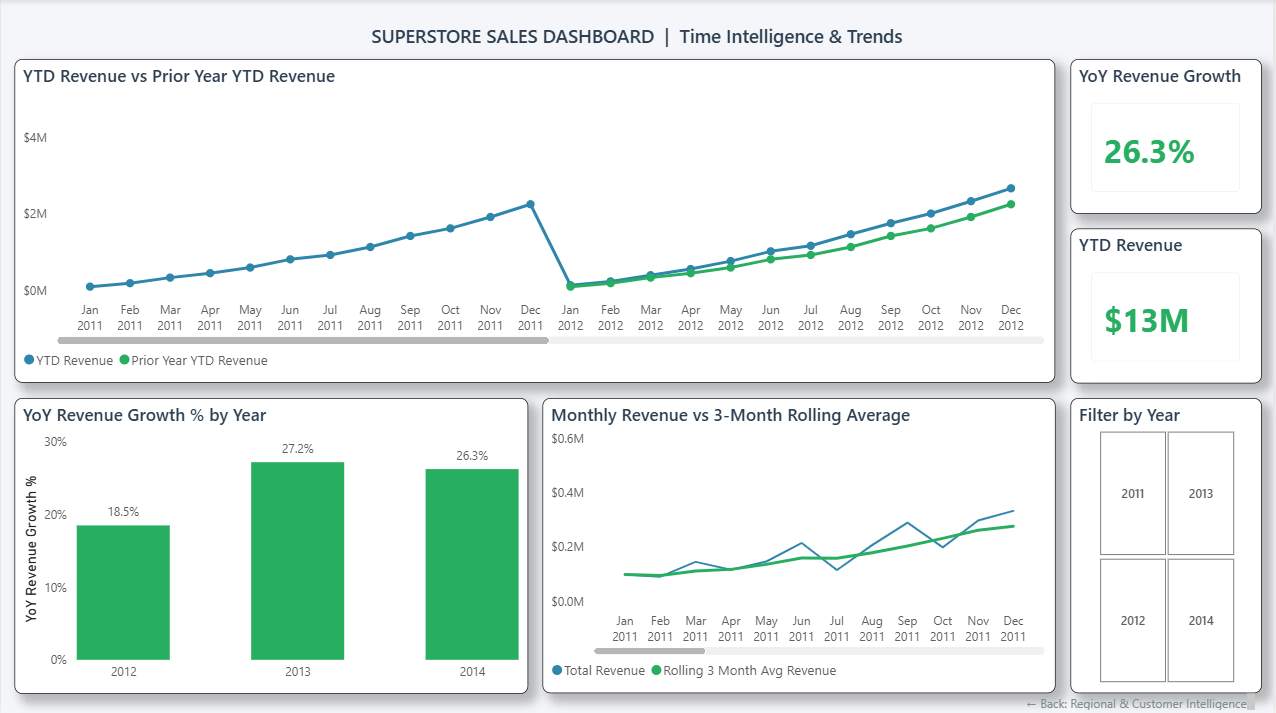

The page's visual inventory and layout, read from the dashboard file:
{"tool":"powerbi","page":{"name":"Time Intelligence and Trends","canvas":[1280,720],"ordinal":3},"visuals":[{"type":"lineChart","title":"YTD Revenue vs Prior Year YTD Revenue","fields":{"Y":["_DAXMeasures.YTD Revenue","_DAXMeasures.Prior Year YTD Revenue"],"Category":["Date Table.Month Year"]},"box":[14.3,60.4,1048.2,326.1],"z":0},{"type":"clusteredColumnChart","fields":{"Category":["Date Table.Year"],"Y":["_DAXMeasures.YoY Revenue Growth %"]},"box":[14.3,402.4,517,298],"z":1000},{"type":"lineChart","title":"Monthly Revenue vs 3-Month Rolling Average","fields":{"Category":["Date Table.Month Year"],"Y":["_DAXMeasures.Total Revenue","_DAXMeasures.Rolling 3 Month Avg Revenue"]},"box":[545.6,402.4,516.9,297.4],"z":2000},{"type":"cardVisual","title":"YoY Revenue Growth","fields":{"Data":["_DAXMeasures.YoY Revenue Growth %"]},"box":[1076.8,60.4,192.5,155.9],"z":3000},{"type":"cardVisual","title":"YTD Revenue","fields":{"Data":["_DAXMeasures.YTD Revenue"]},"box":[1076.8,230.6,192.5,155.9],"z":4000},{"type":"slicer","title":"Filter by Year","fields":{"Values":["Date Table.Year"]},"box":[1076.8,402.4,192.5,297.4],"z":5000},{"type":"textbox","box":[0,0,1280.4,73.2],"z":6000},{"type":"textbox","box":[960.7,686.6,307,33.4],"z":7000}]}

Visuals, with their boxes in screenshot pixels (x1, y1, x2, y2), scaled from the page's 1280x720 canvas onto the 1276x713 screenshot:
"YTD Revenue vs Prior Year YTD Revenue" lineChart: [x1=14, y1=60, x2=1059, y2=383]
clusteredColumnChart - Date Table.Year x _DAXMeasures.YoY Revenue Growth %: [x1=14, y1=398, x2=530, y2=694]
"Monthly Revenue vs 3-Month Rolling Average" lineChart: [x1=544, y1=398, x2=1059, y2=693]
"YoY Revenue Growth" cardVisual: [x1=1073, y1=60, x2=1265, y2=214]
"YTD Revenue" cardVisual: [x1=1073, y1=228, x2=1265, y2=383]
"Filter by Year" slicer: [x1=1073, y1=398, x2=1265, y2=693]
textbox: [x1=0, y1=0, x2=1275, y2=72]
textbox: [x1=958, y1=680, x2=1264, y2=712]
